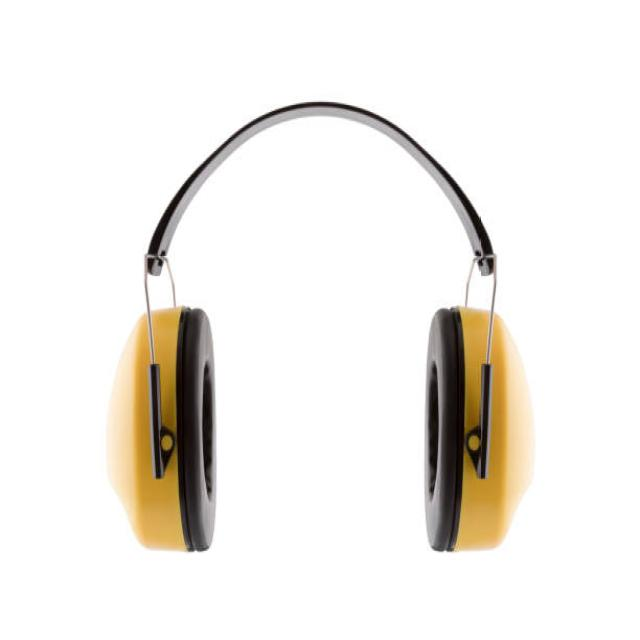Ear-protection: (76, 97, 530, 576)
